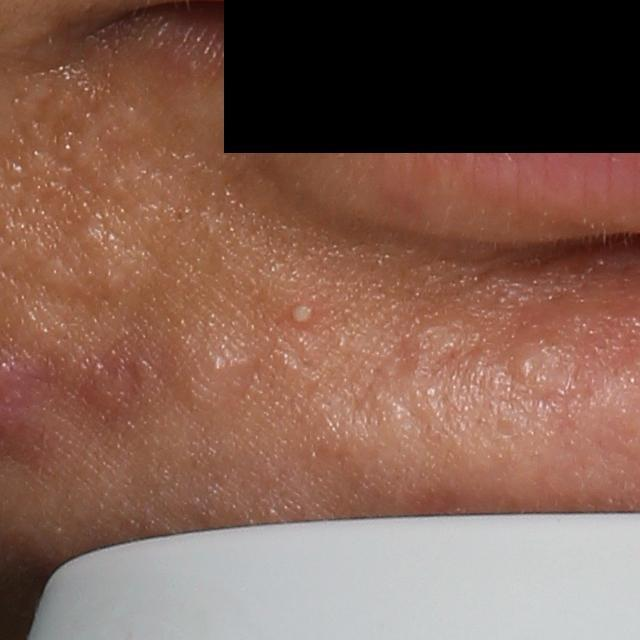hypertrophic_scar: (165, 318, 267, 416), (398, 316, 477, 372)
papule: (90, 365, 142, 413)
pustule: (278, 299, 320, 331)
